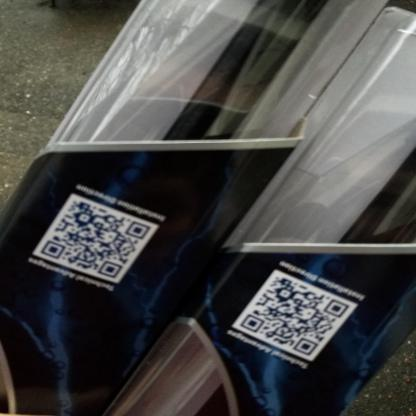qr: (232, 274, 356, 364), (36, 199, 155, 288)
